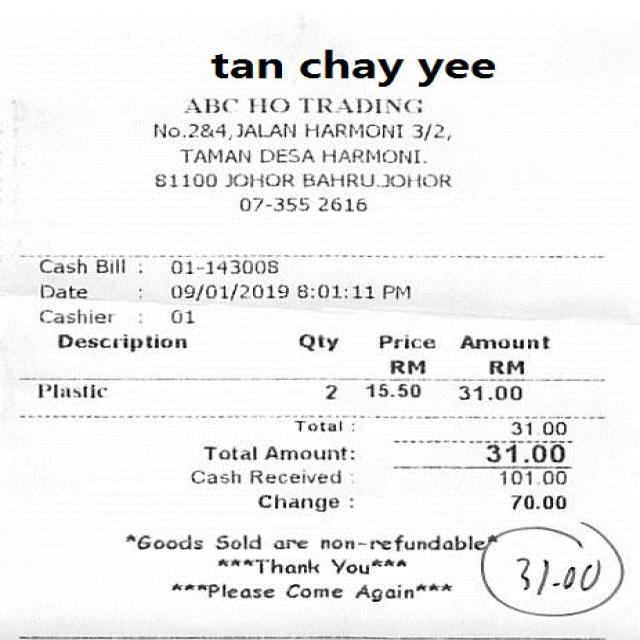text: (297, 48, 400, 86), (318, 532, 485, 550), (57, 332, 185, 351), (152, 122, 296, 138), (168, 282, 284, 300), (303, 172, 449, 186), (416, 58, 492, 84), (296, 96, 420, 111), (209, 52, 279, 77), (354, 582, 451, 600), (304, 122, 401, 138), (168, 259, 278, 273), (482, 443, 562, 462), (214, 558, 317, 572), (169, 583, 272, 597), (322, 148, 419, 162), (459, 332, 549, 347), (257, 494, 337, 510), (293, 282, 372, 298), (248, 468, 338, 482), (263, 444, 351, 458), (123, 532, 200, 548), (36, 382, 105, 398), (496, 468, 564, 484), (329, 558, 404, 572), (456, 384, 521, 400), (37, 308, 110, 322), (224, 172, 293, 186), (177, 147, 246, 160), (239, 197, 307, 210), (154, 172, 216, 186), (510, 419, 565, 434), (378, 332, 432, 347), (257, 148, 313, 162), (509, 494, 565, 508), (285, 582, 341, 596), (184, 96, 236, 111), (39, 256, 87, 272), (39, 282, 87, 298), (365, 383, 419, 397), (387, 360, 423, 380), (488, 360, 524, 380), (203, 444, 254, 458), (296, 332, 336, 349), (290, 419, 340, 432), (412, 122, 448, 140), (246, 96, 288, 111), (213, 534, 258, 548), (316, 197, 364, 210), (191, 470, 239, 482), (96, 256, 124, 272), (272, 538, 307, 549), (169, 308, 192, 322), (387, 284, 408, 298), (323, 383, 336, 399)
